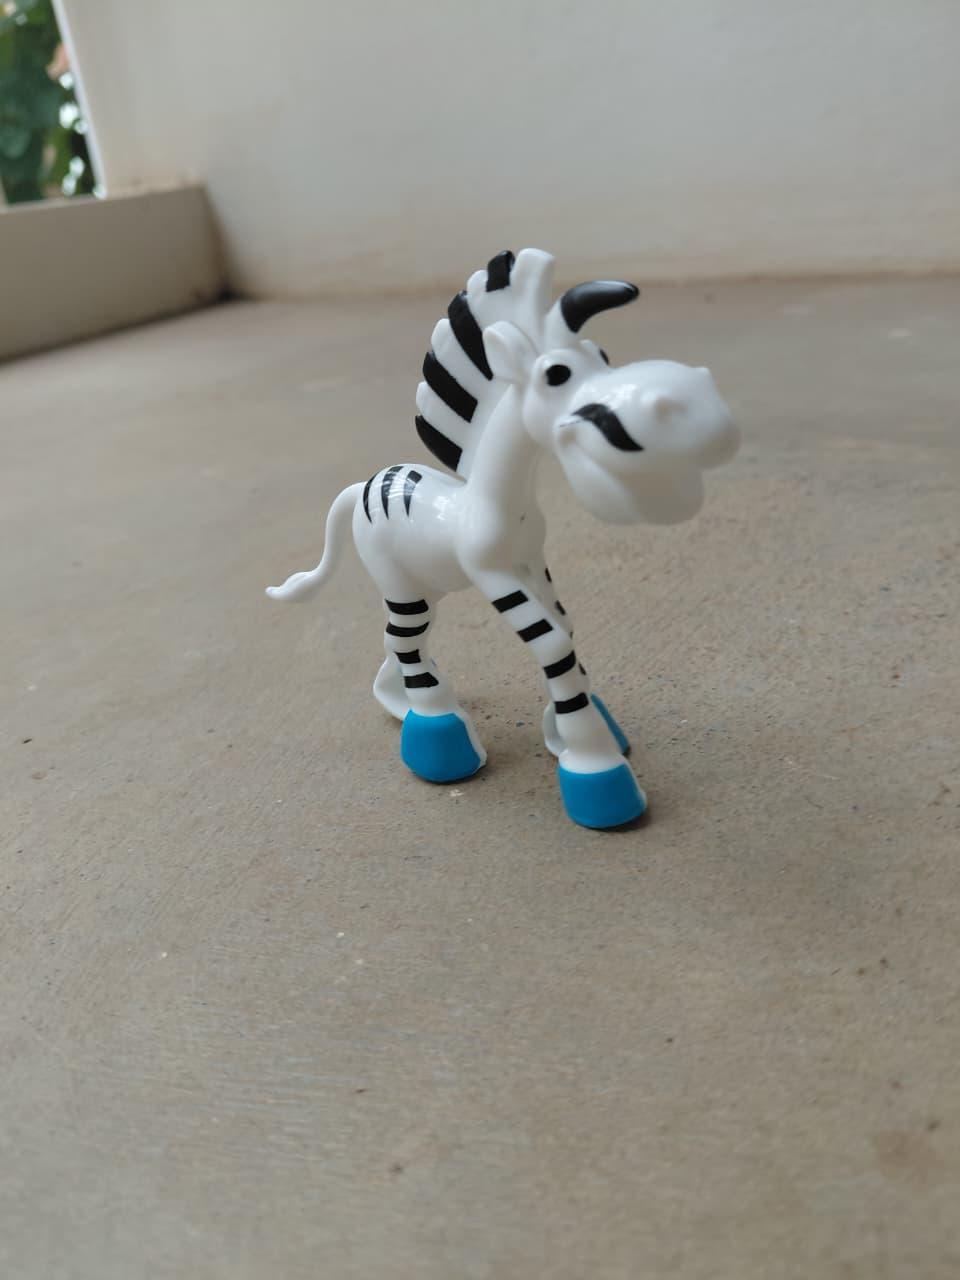zebra: (262, 238, 744, 849)
